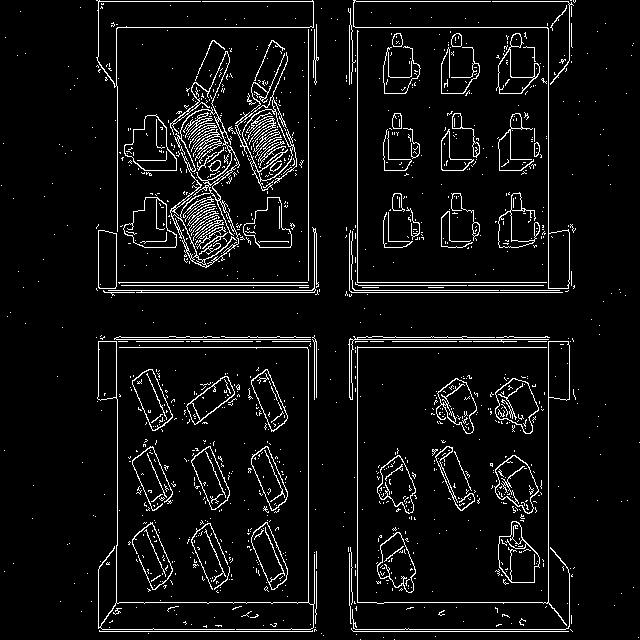Battery: (130, 440, 175, 511), (188, 520, 232, 592), (433, 445, 480, 511), (129, 521, 174, 589), (248, 521, 288, 591), (184, 374, 240, 424), (189, 40, 231, 105), (190, 443, 230, 510), (131, 369, 174, 431), (248, 40, 288, 104), (249, 444, 286, 512), (249, 368, 288, 432)
Pump: (170, 102, 239, 186), (235, 99, 298, 190), (171, 186, 239, 268)
Regulator: (496, 521, 544, 585), (490, 378, 542, 434), (376, 449, 416, 520), (495, 192, 546, 247), (431, 375, 478, 434), (498, 112, 542, 174), (494, 454, 541, 512), (498, 33, 540, 94), (376, 528, 416, 591), (441, 32, 480, 95), (382, 112, 420, 174), (382, 32, 420, 94), (441, 112, 479, 171), (441, 192, 480, 249), (384, 192, 423, 248)
Sensor: (124, 115, 178, 175), (122, 194, 178, 248), (241, 196, 295, 249)
